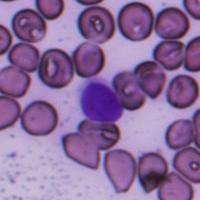L: (77, 75, 124, 125)
